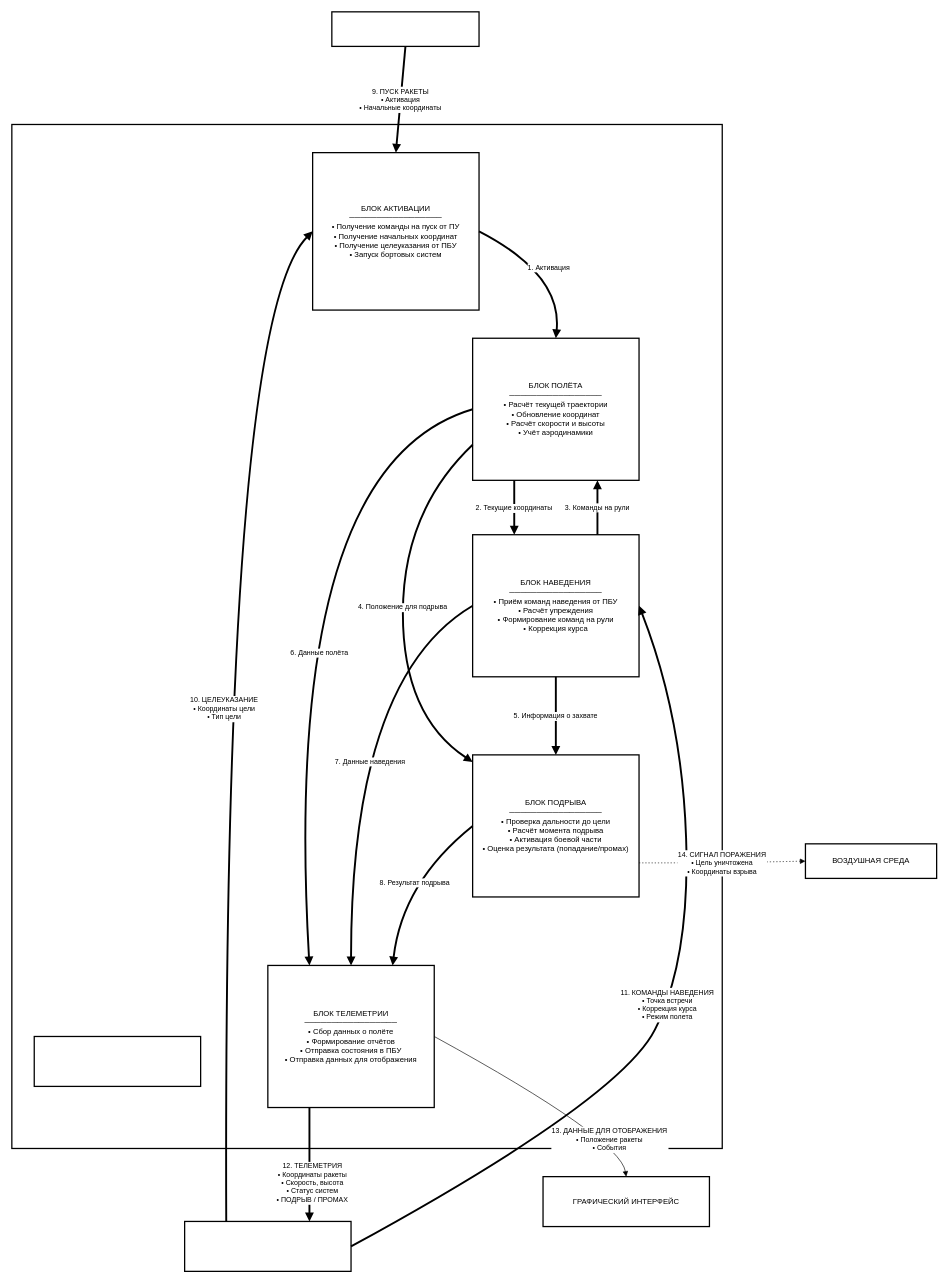
The diagram is 948 pixels wide and 1283 high, and some of its shapes have lost their labels. Each missing label, with the box of its shape:
ЗЕНИТНАЯ УПРАВЛЯЕМАЯ РАКЕТА: (33, 1036, 201, 1087)
ПУНКТ БОЕВОГО УПРАВЛЕНИЯ: (184, 1220, 351, 1272)
ПУСКОВАЯ УСТАНОВКА: (331, 11, 479, 47)
